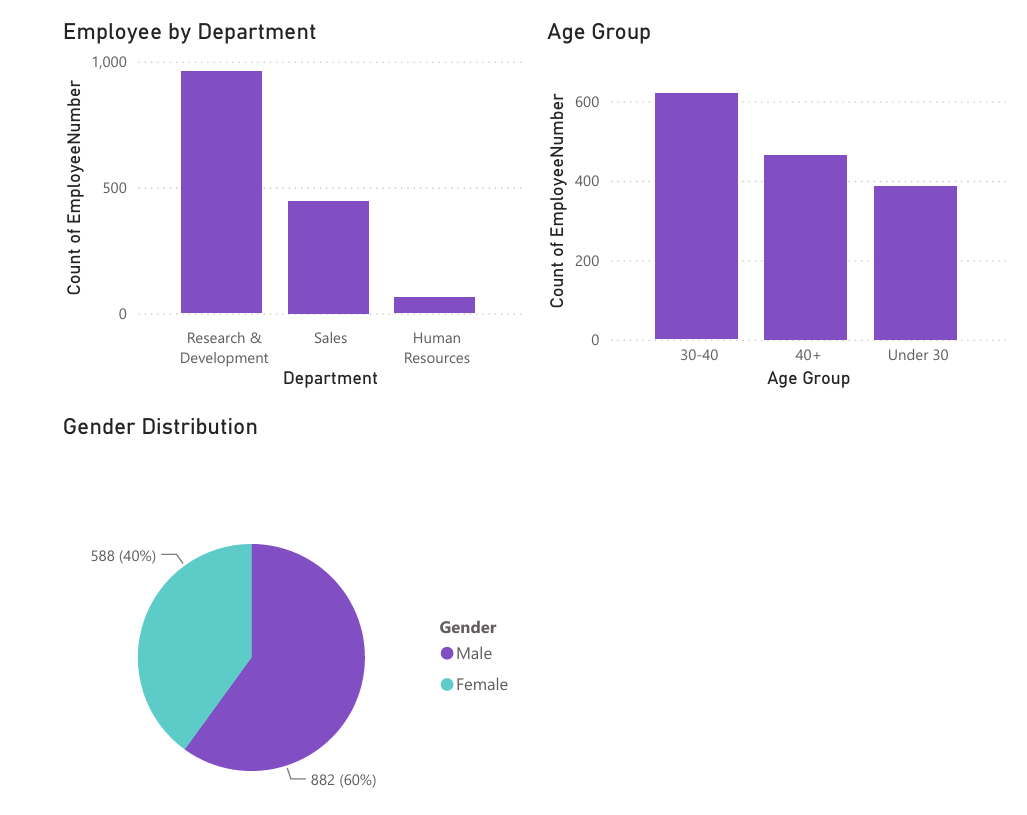

The page's visual inventory and layout, read from the dashboard file:
{"tool":"powerbi","page":{"name":"Workforce Analysis","canvas":[1280,720],"ordinal":1},"visuals":[{"type":"clusteredColumnChart","title":"Employee by Department","fields":{"Category":["IBM_HR_DATASET.Department"],"Y":["CountNonNull(IBM_HR_DATASET.EmployeeNumber)"]},"box":[39.8,0,377.4,300.5],"z":0},{"type":"pieChart","title":"Gender Distribution","fields":{"Category":["IBM_HR_DATASET.Gender"],"Y":["CountNonNull(IBM_HR_DATASET.EmployeeNumber)"]},"box":[39.8,315.6,377.4,370.5],"z":1},{"type":"columnChart","title":"Age Group","fields":{"Category":["IBM_HR_DATASET.Age Group"],"Y":["CountNonNull(IBM_HR_DATASET.EmployeeNumber)"]},"box":[427,0,377,301],"z":2}]}

Visuals, with their boxes on the page's 1280x720 design canvas (x1, y1, x2, y2). These are canvas units, not pixel positions in the 1027x815 screenshot, which may show the page scaled, cropped or inside an application window:
"Employee by Department" clusteredColumnChart: {"x1": 40, "y1": 0, "x2": 417, "y2": 300}
"Gender Distribution" pieChart: {"x1": 40, "y1": 316, "x2": 417, "y2": 686}
"Age Group" columnChart: {"x1": 427, "y1": 0, "x2": 804, "y2": 301}
